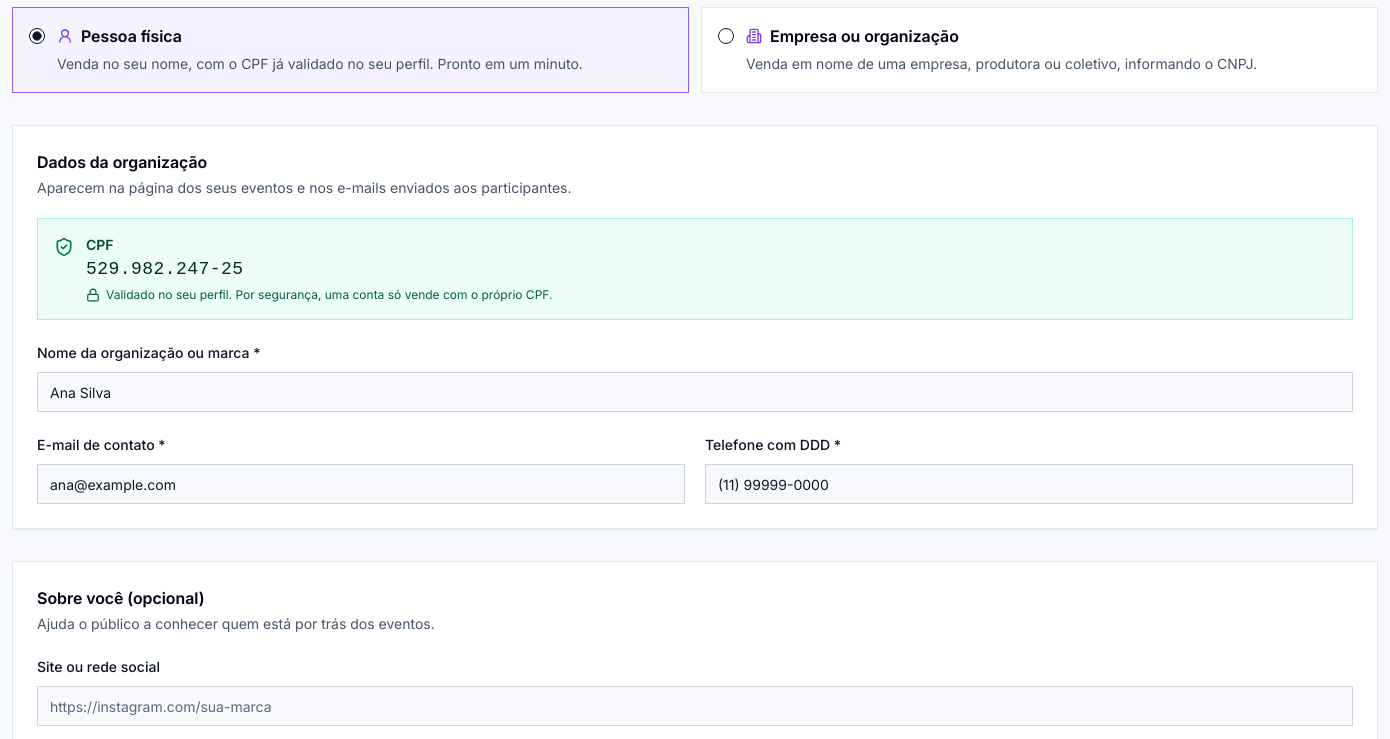
Test case: OrganizerSignupForm › validates the company before sending and masks the CNPJ while typing
Click the radio button named "empresa ou organização" next to "Empresa ou organização": (726, 36) left=718, top=28, right=734, bottom=44
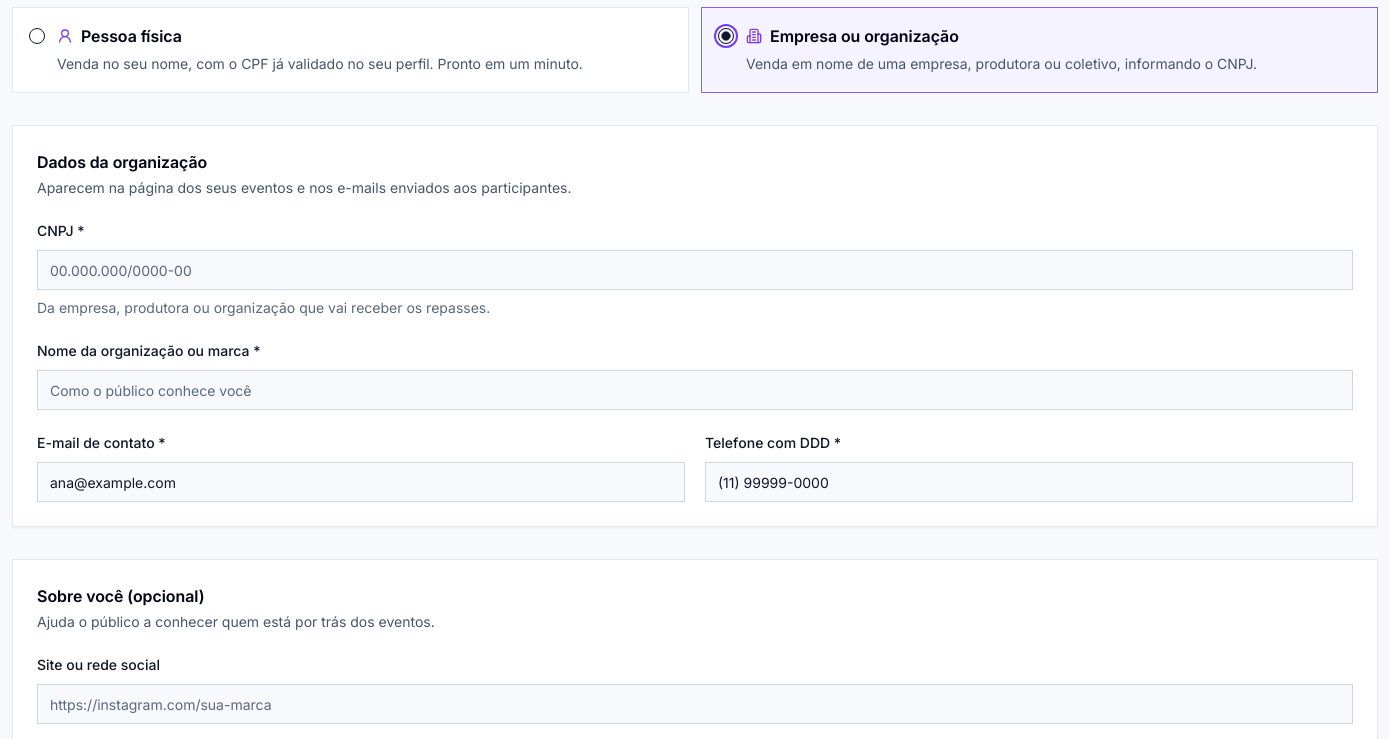
In the field labelled "Nome da organização ou marca *": (695, 390) left=37, top=370, right=1353, bottom=410, type "F"
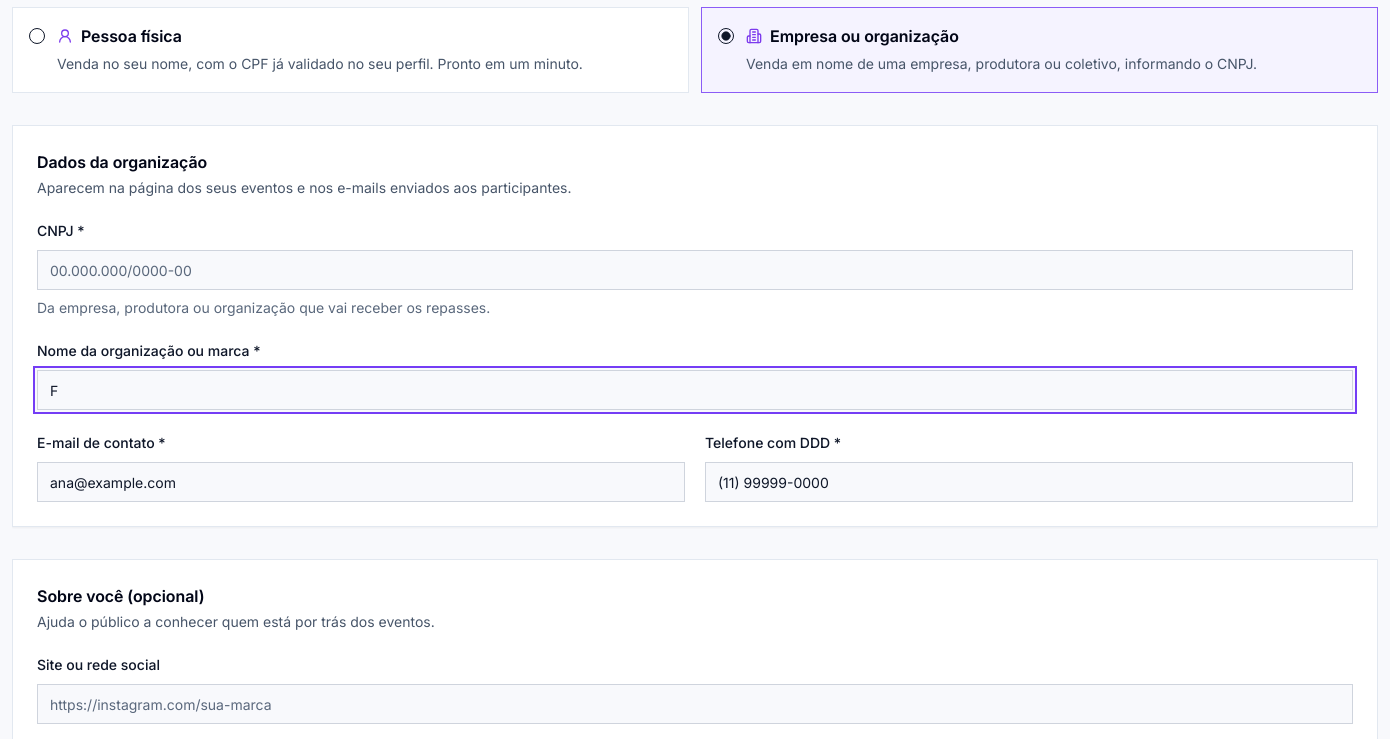
In the field labelled "CNPJ *": (695, 270) left=37, top=250, right=1353, bottom=290, type "11111111111111"
(page scrolled)
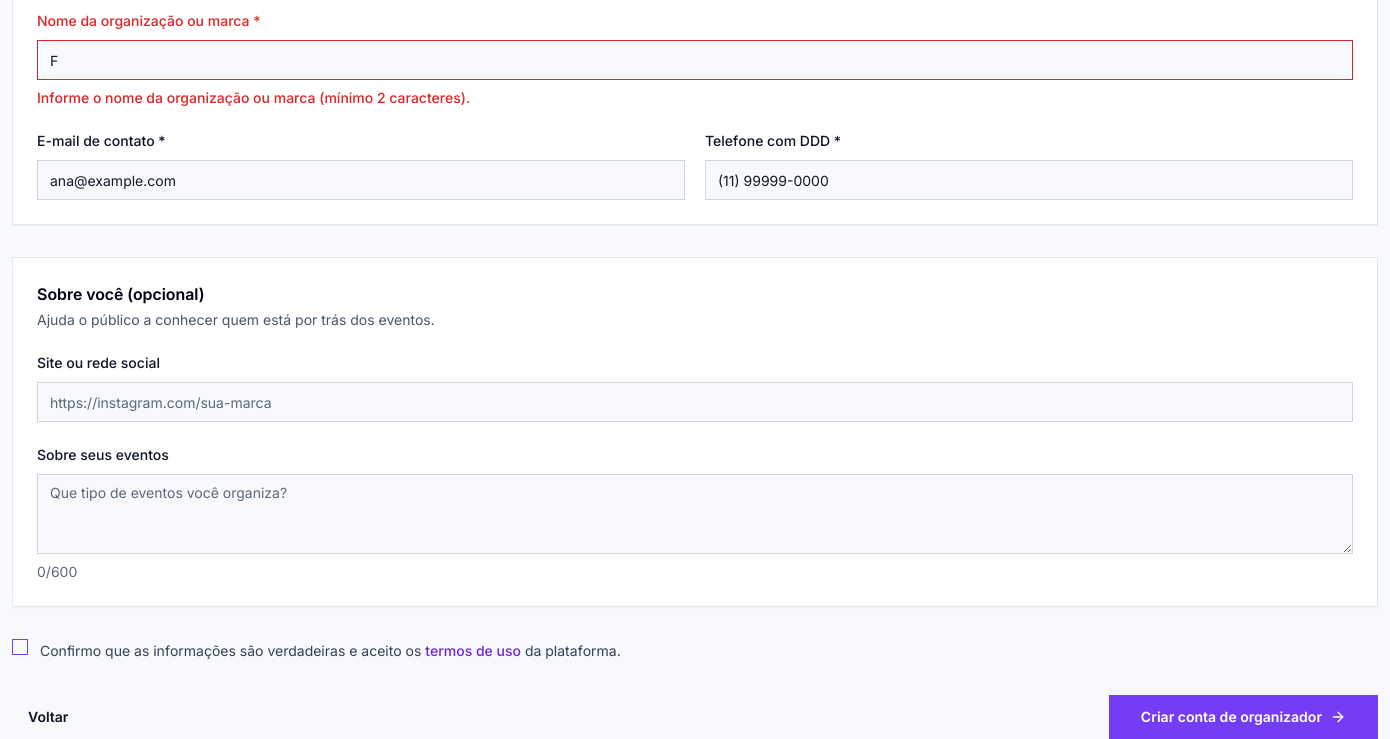
Click the button named "criar conta de organizador": (1243, 717) left=1109, top=695, right=1378, bottom=738
(page scrolled)
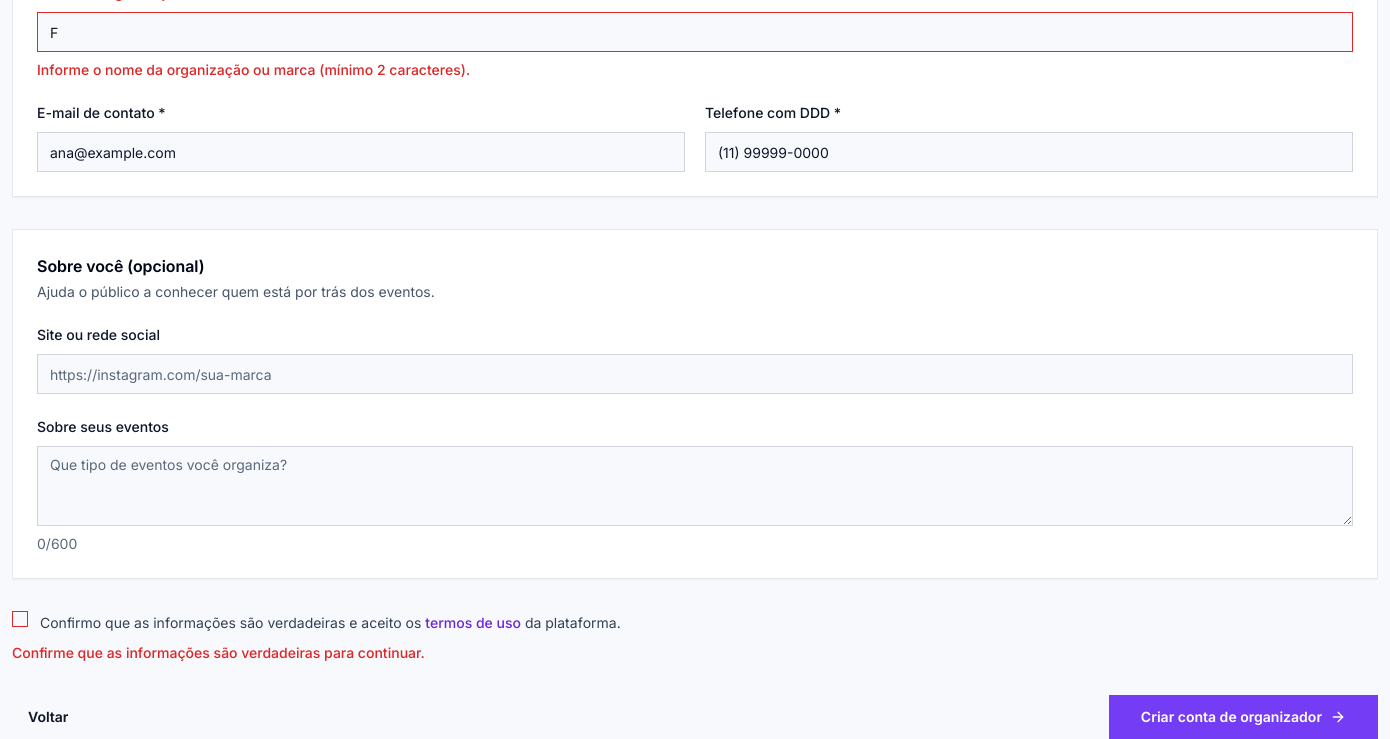
Check: the text "mínimo 2 caracteres" is shown, box left=37, top=61, right=470, bottom=78
Check: the text "Confirme que as informações são verdadeiras para continuar." is shown, box left=12, top=644, right=425, bottom=661
